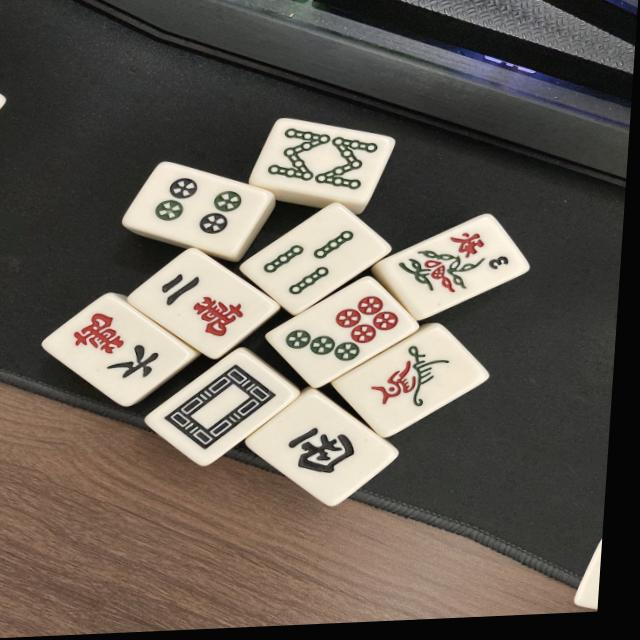bai: (145, 346, 302, 475)
ff3: (375, 213, 528, 323)
m2: (121, 244, 278, 366)
m6: (37, 286, 199, 415)
s1: (328, 326, 484, 444)
s3: (244, 208, 389, 320)
s8: (255, 116, 388, 202)
t4: (118, 153, 267, 261)
t7: (263, 279, 420, 394)
west: (242, 389, 400, 516)
